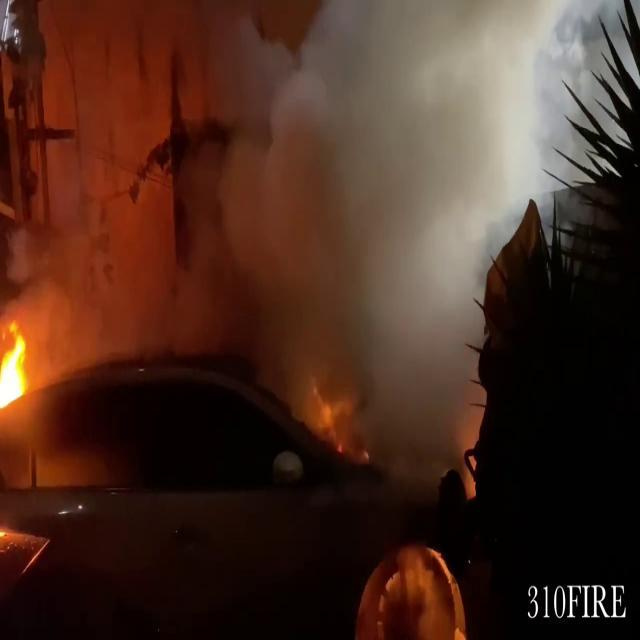Fire: (0, 320, 36, 420)
Smoke: (185, 0, 572, 449)
